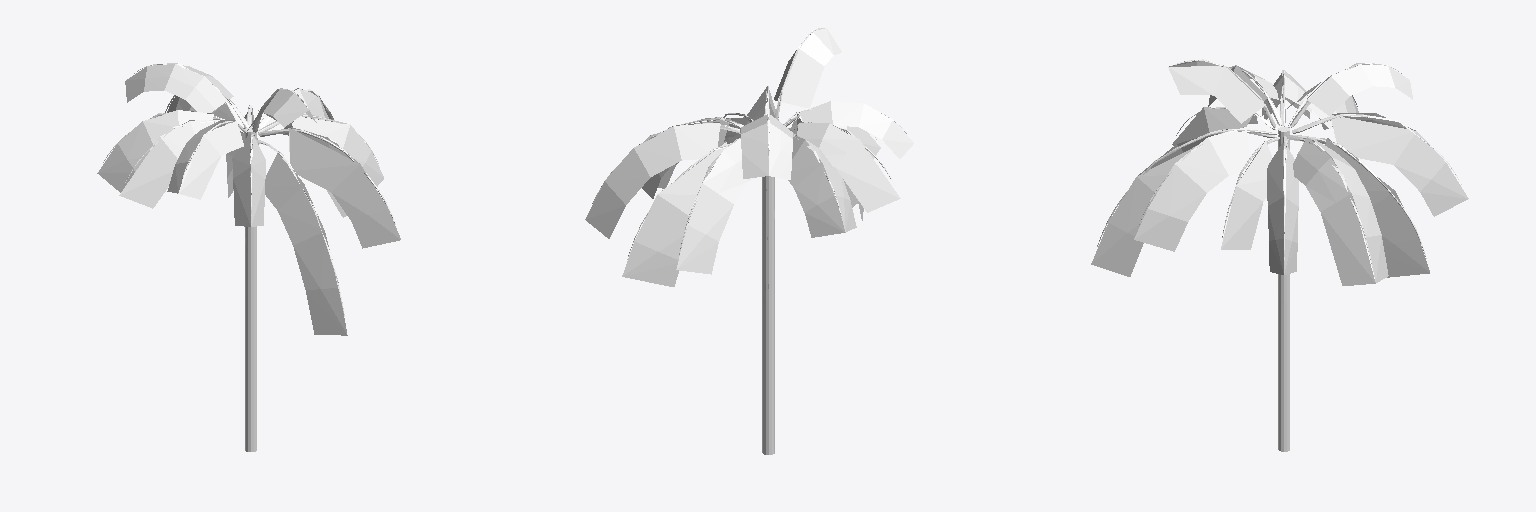
Rendered from Ruffle_Palm_Model_0.obj.
The picture shows the model from 3 angles: view 1: azimuth 30°, elevation 25°; view 2: azimuth 150°, elevation 25°; view 3: azimuth 270°, elevation 25°; orthographic projection.
Visible parts, largest first — view 1: Foliage, Bark; view 2: Foliage, Bark; view 3: Foliage, Bark.
Part boxes in pixels (bbox=[...]): Foliage: bbox=[97, 63, 400, 335]; Bark: bbox=[245, 127, 256, 451]; Foliage: bbox=[585, 28, 913, 286]; Bark: bbox=[762, 176, 774, 454]; Foliage: bbox=[1091, 59, 1468, 285]; Bark: bbox=[1278, 127, 1289, 451].
Size of the model in its own units: 4.71 by 6.5 by 5.72.